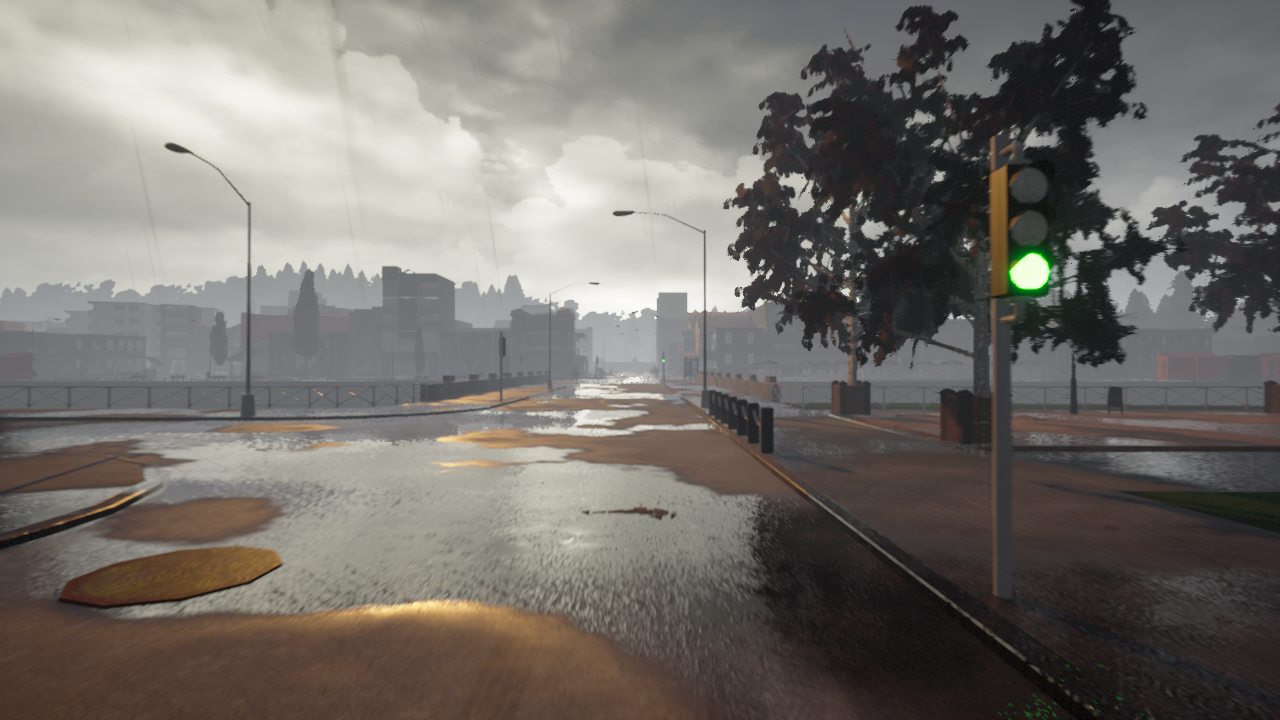green: (991, 158, 1057, 302)
